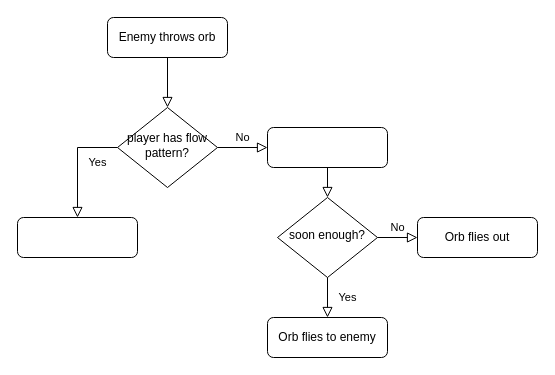
The diagram is 555 pixels wide and 375 high, and some of its shapes have lost their labels. Each missing label, with the centre of its shape:
Orb moves through pattern: point 77,237
Player builds movement pattern: point 327,147
